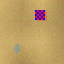person: (14, 43, 20, 52)
